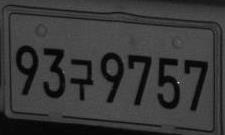3: (42, 46, 66, 98)
5: (156, 57, 181, 109)
7: (126, 53, 153, 106), (183, 58, 209, 111)
9: (99, 51, 125, 103), (14, 44, 39, 96)
구: (68, 57, 94, 101)
